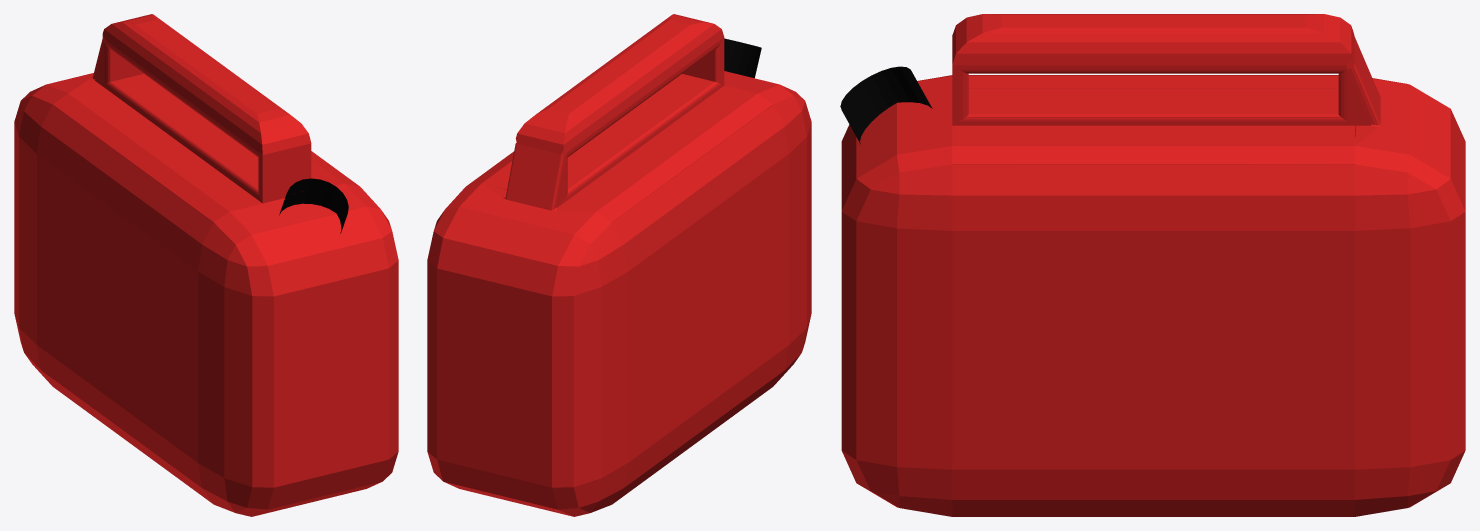
Rendered from Jerry Can.fbx.
3 views of the same model, side by side, from view 1: azimuth 30°, elevation 25°; view 2: azimuth 150°, elevation 25°; view 3: azimuth 270°, elevation 25° (orthographic). The views are drawn at different scales.
Visible parts, largest first — view 1: Jerry Can; view 2: Jerry Can; view 3: Jerry Can.
Part boxes in pixels (x1=…): Jerry Can: x1=14, y1=14, x2=398, y2=516; Jerry Can: x1=427, y1=14, x2=811, y2=516; Jerry Can: x1=840, y1=14, x2=1465, y2=516.
Size of the model in its own units: 74.86 by 148 by 182.
